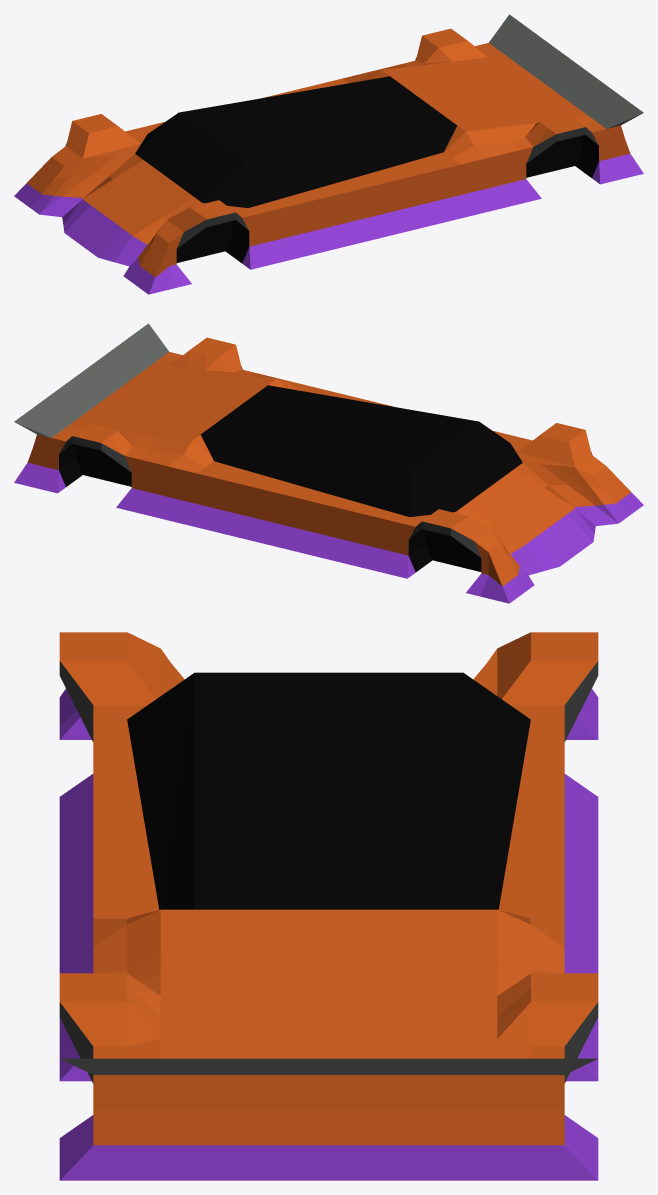
The model's file is car2.fbx.
3 renders of one model, top to bottom at view 1: azimuth 30°, elevation 25°; view 2: azimuth 150°, elevation 25°; view 3: azimuth 270°, elevation 25°, orthographic. The views are drawn at different scales.
Visible parts, largest first — view 1: Cube; view 2: Cube; view 3: Cube.
Part boxes in pixels (x1,y1,x2,y2): Cube: (14,14,643,294); Cube: (14,323,643,603); Cube: (59,632,598,1180).
Bounding box in the file's own units: 3400 × 500 × 1600.
